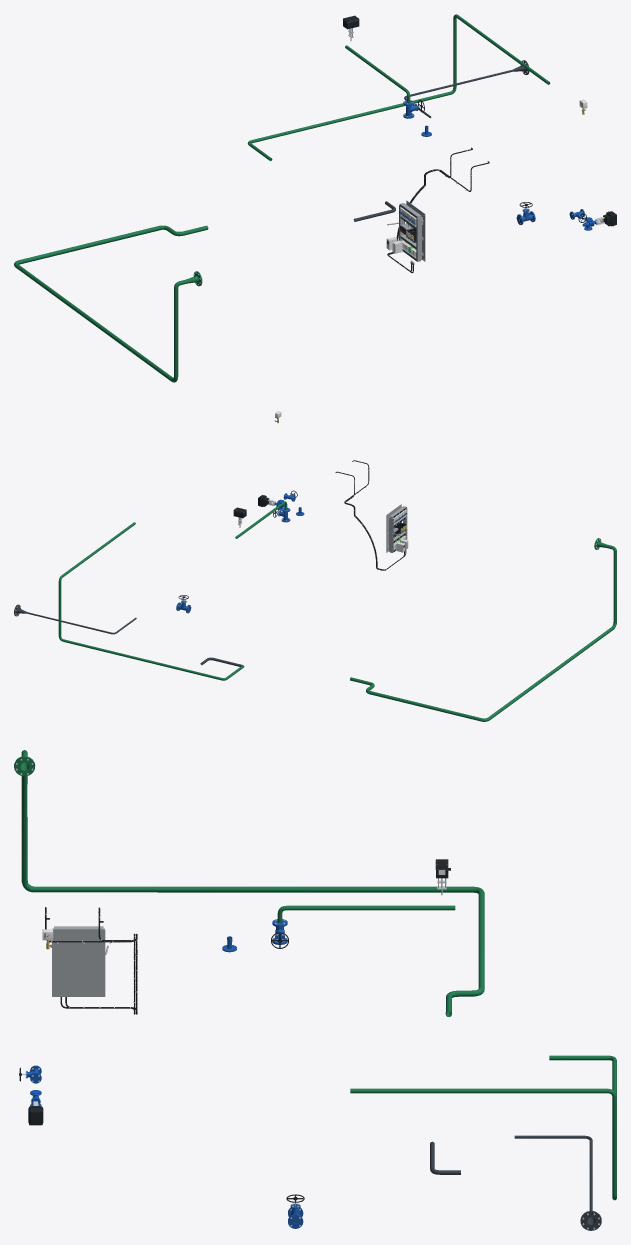
File: s4000-7-zHtWOuDL.glb
3 renders of one model, top to bottom at view 1: azimuth 30°, elevation 25°; view 2: azimuth 150°, elevation 25°; view 3: azimuth 270°, elevation 25°, orthographic. The views are drawn at different scales.
Visible parts, largest first — view 1: deaerator_feed / green, to_economizer / green, cabinet_interior / cabinet_interior_0.npz; view 2: deaerator_feed / green, to_economizer / green, cabinet_interior / cabinet_interior_0.npz; view 3: deaerator_feed / green, cabinet_interior / cabinet_interior_0.npz, to_economizer / green, direct_inlet / green, tds_to_fv / dark.
Part boxes in pixels (box(x1,y1,x2,y2)): deaerator_feed / green: box(14, 225, 208, 382); to_economizer / green: box(247, 14, 550, 161); cabinet_interior / cabinet_interior_0.npz: box(387, 200, 425, 261); deaerator_feed / green: box(350, 538, 616, 721); to_economizer / green: box(58, 522, 244, 680); cabinet_interior / cabinet_interior_0.npz: box(386, 504, 407, 552); deaerator_feed / green: box(14, 750, 484, 1016); cabinet_interior / cabinet_interior_0.npz: box(52, 926, 108, 996); to_economizer / green: box(350, 1055, 616, 1200); direct_inlet / green: box(277, 905, 428, 922); tds_to_fv / dark: box(514, 1135, 601, 1230).
Size of the model in its own units: 8.21 by 2.85 by 5.51.
